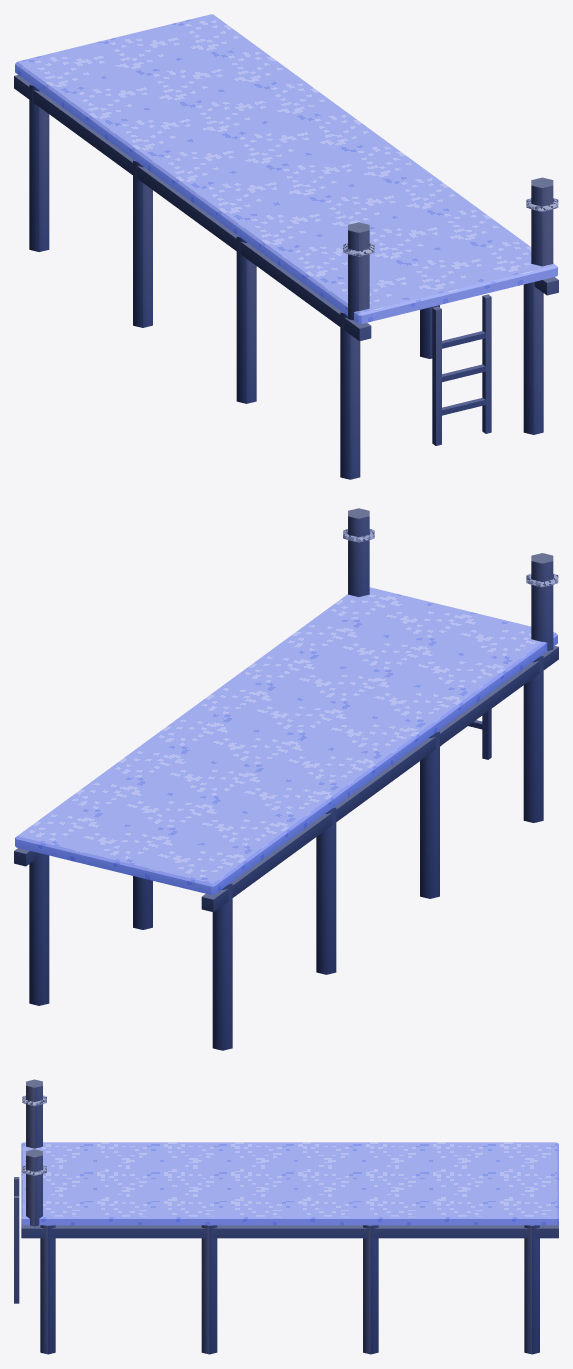
File: lake.dock.glb
3 renders of one model, top to bottom at view 1: azimuth 30°, elevation 25°; view 2: azimuth 150°, elevation 25°; view 3: azimuth 270°, elevation 25°, orthographic. The views are drawn at different scales.
Visible parts, largest first — view 1: kit_deck, kit_piles, kit_posts, kit_ladder; view 2: kit_deck, kit_piles, kit_posts; view 3: kit_deck, kit_piles, kit_posts, kit_ladder.
Part boxes in pixels (<box>): kit_deck: <box>14,14,558,341</box>; kit_piles: <box>29,83,543,479</box>; kit_posts: <box>343,177,558,320</box>; kit_ladder: <box>432,294,491,445</box>; kit_deck: <box>14,587,558,912</box>; kit_piles: <box>29,654,543,1050</box>; kit_posts: <box>343,508,558,650</box>; kit_deck: <box>21,1142,558,1238</box>; kit_piles: <box>40,1225,539,1354</box>; kit_posts: <box>22,1079,46,1226</box>; kit_ladder: <box>14,1177,19,1303</box>.
Size of the model in its own units: 2.16 by 2.43 by 6.08.
3 materials, 2 textured.
